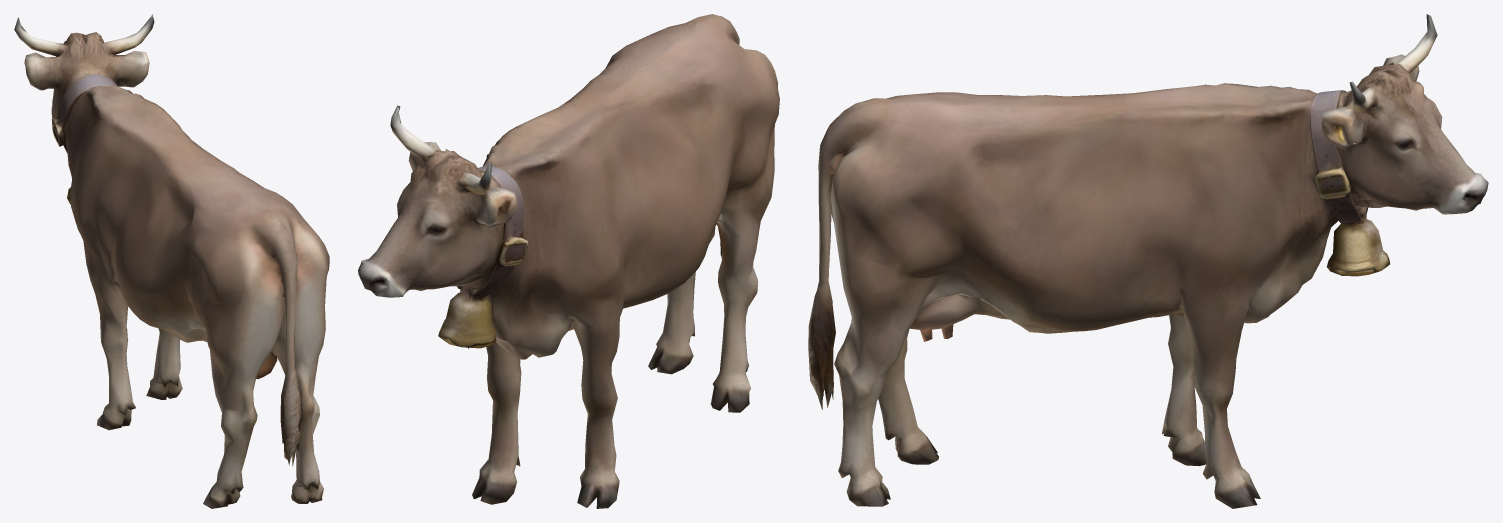
Rendered from alpkuh.glb.
3 renders of one model, left to right at view 1: azimuth 30°, elevation 25°; view 2: azimuth 150°, elevation 25°; view 3: azimuth 270°, elevation 25°, orthographic. The views are drawn at different scales.
Visible parts, largest first — view 1: tripo_node_5ca679b2-1db9-46e3-ad21-f87335c95a7c; view 2: tripo_node_5ca679b2-1db9-46e3-ad21-f87335c95a7c; view 3: tripo_node_5ca679b2-1db9-46e3-ad21-f87335c95a7c.
Boxes of the visible parts, x1=… form: tripo_node_5ca679b2-1db9-46e3-ad21-f87335c95a7c: x1=14, y1=14, x2=329, y2=508; tripo_node_5ca679b2-1db9-46e3-ad21-f87335c95a7c: x1=358, y1=14, x2=779, y2=508; tripo_node_5ca679b2-1db9-46e3-ad21-f87335c95a7c: x1=808, y1=14, x2=1488, y2=508.
Bounding box in the file's own units: 0.305 × 0.717 × 1.
Materials: 1 (1 with a texture image).
